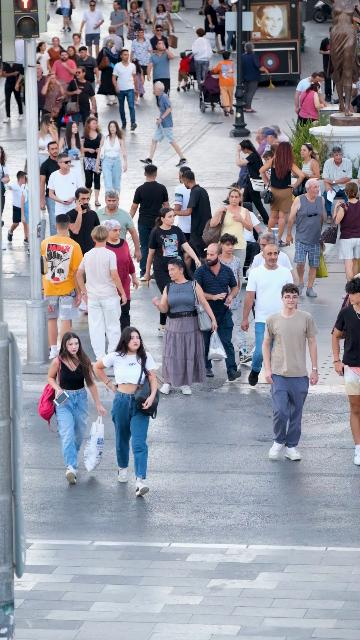person: (93, 327, 159, 496), (262, 283, 319, 462), (46, 331, 107, 484), (153, 256, 218, 396), (241, 244, 298, 386), (145, 207, 201, 337), (74, 225, 127, 360), (192, 243, 242, 382), (40, 215, 84, 359), (331, 277, 360, 466), (286, 177, 327, 298), (259, 141, 305, 247), (129, 164, 170, 281), (216, 233, 251, 364), (169, 171, 212, 276), (101, 220, 139, 333), (140, 80, 188, 167), (210, 188, 254, 268), (326, 182, 360, 283), (96, 190, 142, 263), (47, 153, 85, 238), (236, 139, 270, 228), (64, 187, 102, 256), (96, 120, 128, 197), (323, 147, 354, 225), (248, 232, 295, 283), (57, 66, 96, 127), (39, 141, 70, 210), (112, 49, 138, 131), (240, 43, 269, 113), (58, 121, 86, 189), (82, 117, 103, 207), (6, 170, 29, 249), (147, 40, 175, 104), (75, 46, 100, 117), (209, 51, 235, 117), (294, 71, 326, 123), (97, 39, 121, 107), (40, 73, 68, 131), (172, 166, 192, 246), (130, 28, 153, 96), (79, 0, 105, 60), (1, 62, 24, 123), (298, 81, 327, 128), (191, 28, 214, 86), (51, 49, 77, 97), (297, 142, 321, 192), (38, 113, 60, 167), (202, 0, 224, 54), (243, 199, 263, 248), (127, 0, 145, 50), (151, 3, 175, 40), (35, 64, 49, 122), (109, 1, 127, 38), (261, 129, 282, 158), (103, 26, 123, 55), (36, 41, 51, 79), (177, 52, 191, 92), (150, 25, 169, 54), (59, 0, 75, 33), (69, 33, 82, 53), (66, 46, 80, 64), (263, 151, 276, 170)
